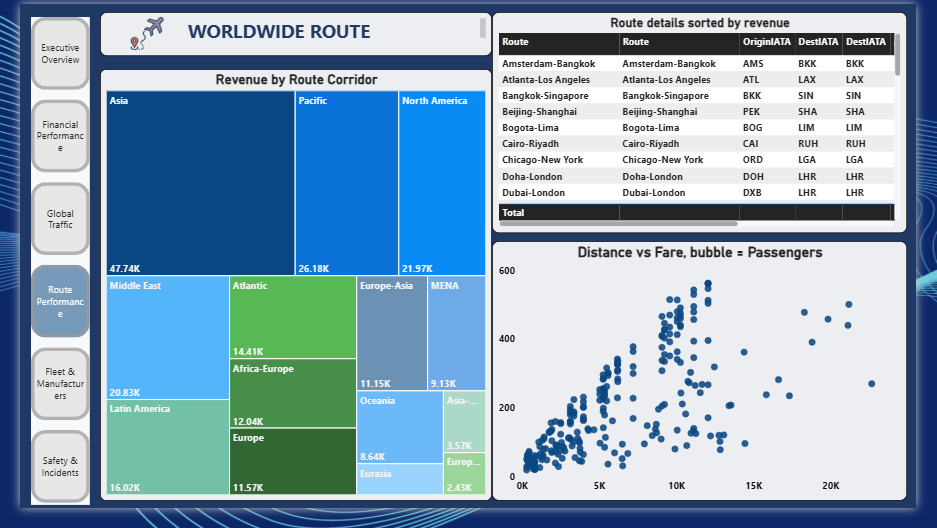

This screenshot's page, from the dashboard's own definition file:
{"tool":"powerbi","page":{"name":"Route Performance","canvas":[1280,720],"ordinal":3},"visuals":[{"type":"treemap","title":"Revenue by Route Corridor","fields":{"Group":["Fact_Routes5.RouteCorridor"],"Values":["Sum(Fact_Routes5.AnnualRevenueUSDm)"]},"box":[114.3,92.9,560,617.1],"z":0},{"type":"scatterChart","title":"Distance vs Fare, bubble = Passengers","fields":{"X":["Sum(Fact_Routes5.DistanceKM)"],"Y":["Fact_Routes5.AvgFareUSD"]},"box":[674.3,338.6,592.9,371.4],"z":1000},{"type":"textbox","box":[114.3,11.4,560,62.9],"z":2000},{"type":"tableEx","title":"Route details sorted by revenue","fields":{"Values":["Fact_Routes5.Route","Fact_Routes5.Route","Fact_Routes5.OriginIATA","Fact_Routes5.DestIATA","Fact_Routes5.DestIATA","Sum(Fact_Routes5.AnnualPassengersM)","Sum(Fact_Routes5.AvgFareUSD)","Sum(Fact_Routes5.AnnualRevenueUSDm)"]},"box":[674.3,11.4,592.9,315.7],"z":3000},{"type":"image","box":[127.1,18.6,108.6,47.1],"z":4000},{"type":"pageNavigator","box":[15.7,18.6,84.3,697.1],"z":4001}]}

Visuals, with their boxes in screenshot pixels (x1, y1, x2, y2):
"Revenue by Route Corridor" treemap: <box>99,67,489,497</box>
"Distance vs Fare, bubble = Passengers" scatterChart: <box>489,238,902,497</box>
textbox: <box>99,10,489,54</box>
"Route details sorted by revenue" tableEx: <box>489,10,902,230</box>
image: <box>108,15,184,48</box>
pageNavigator: <box>30,15,89,501</box>
